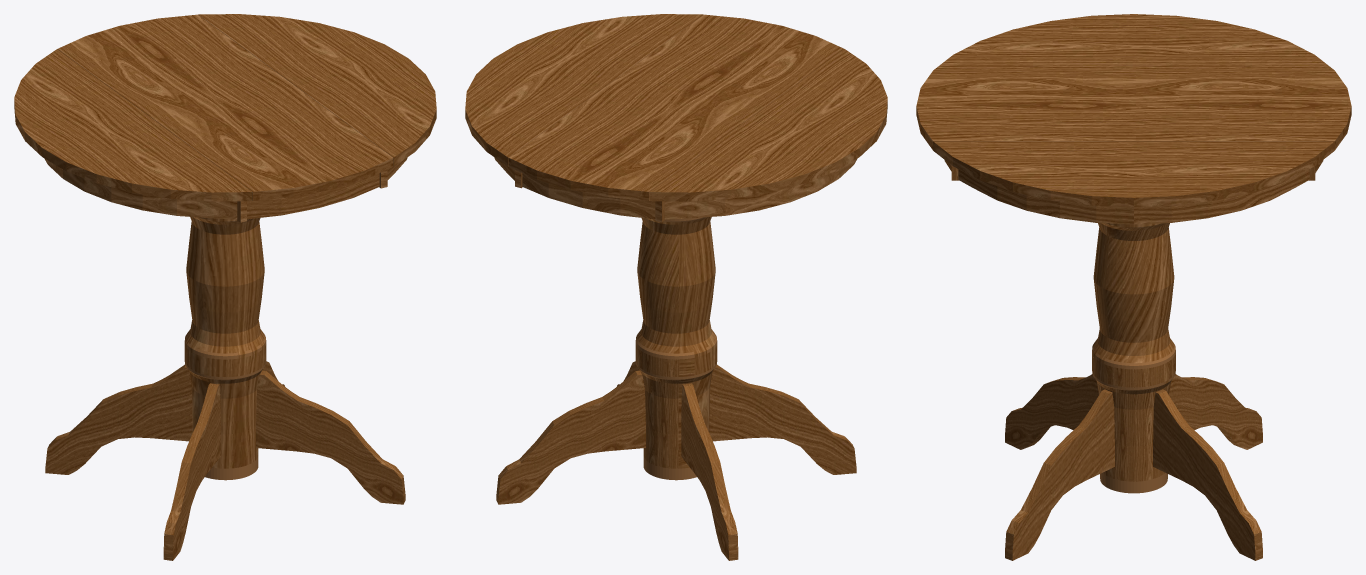
The model's file is sh-bs0-oak-table.glb.
3 renders of one model, left to right at view 1: azimuth 30°, elevation 25°; view 2: azimuth 150°, elevation 25°; view 3: azimuth 270°, elevation 25°, orthographic. The views are drawn at different scales.
Parts seen in each view (by area): view 1: Cube_Cube.001; view 2: Cube_Cube.001; view 3: Cube_Cube.001.
Part boxes in pixels (x1,y1,x2,y2): Cube_Cube.001: (14,14,436,560); Cube_Cube.001: (465,14,887,560); Cube_Cube.001: (916,14,1351,560).
Bounding box in the file's own units: 1 × 1 × 1.
1 material, 1 textured.
